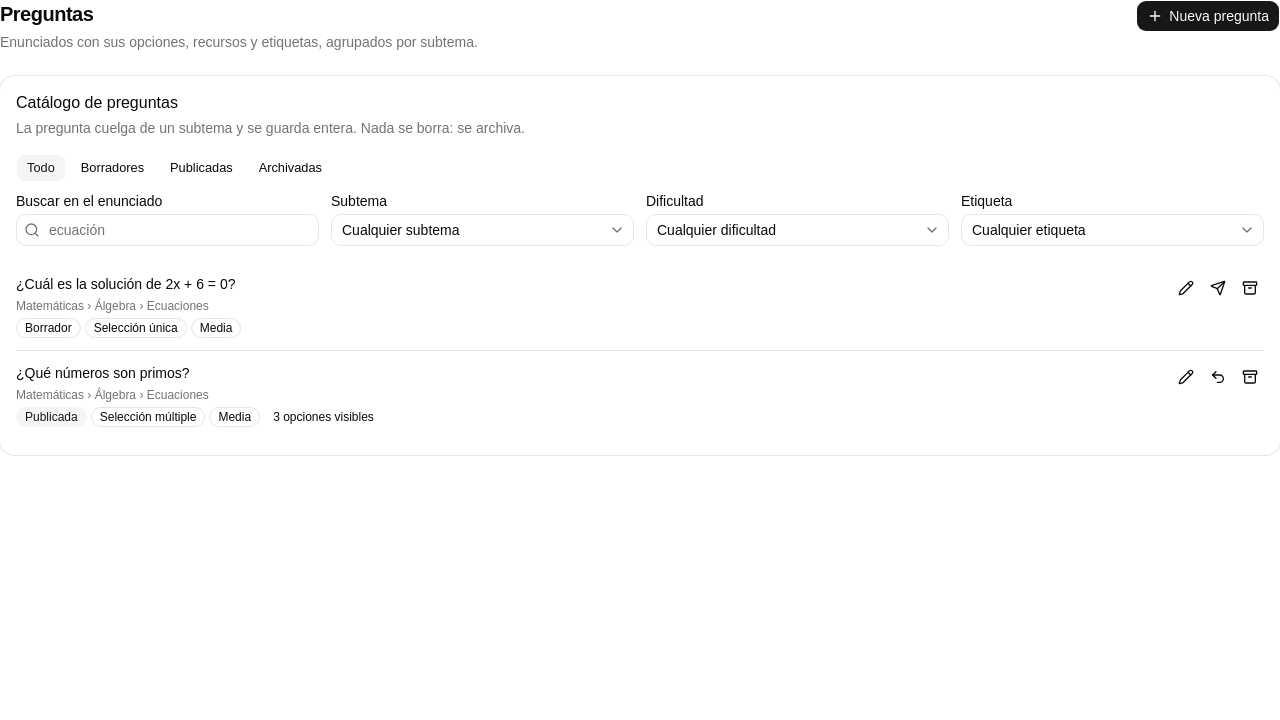
it: gestión de preguntas › avisa al pasar de múltiple a única con más de una correcta, sin desmarcar nada
This screenshot has width=1280, height=720.
Click the button named "Editar «¿Qué números" at (1186, 377), box left=1172, top=363, right=1200, bottom=391
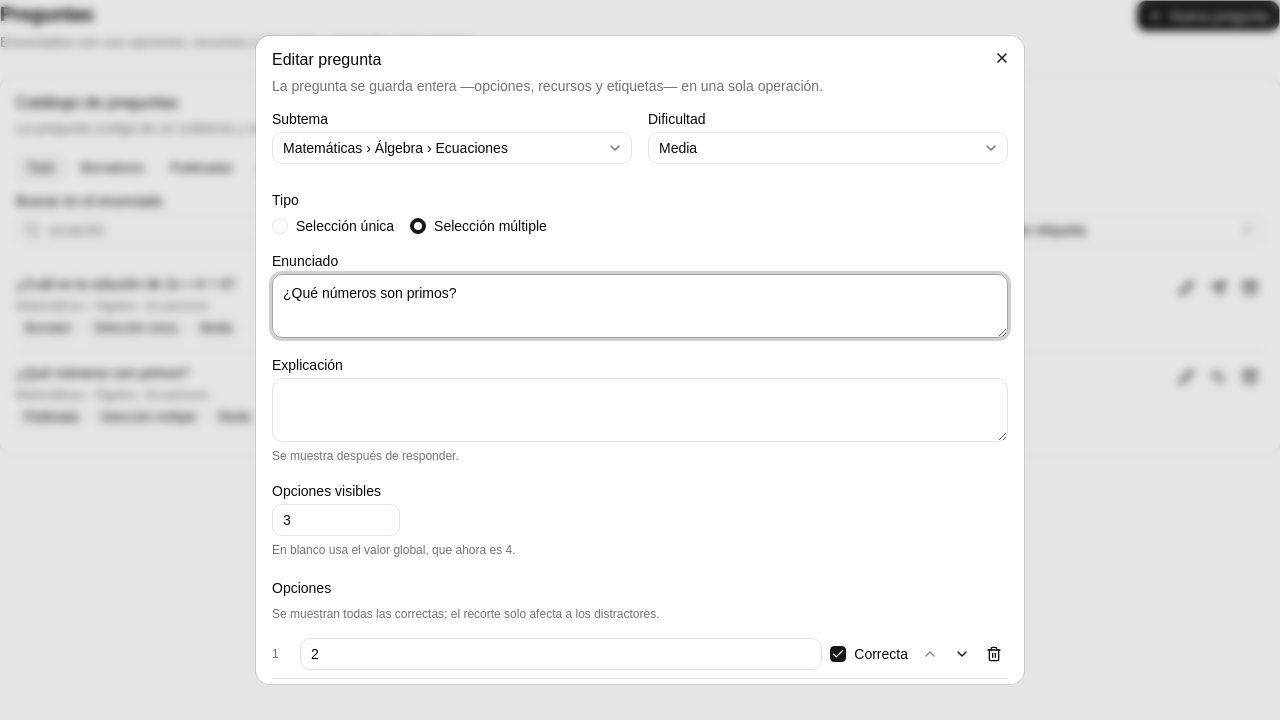
Now the dialog is shown, box left=256, top=36, right=1024, bottom=684
Now the text box labelled "Enunciado" is shown, box left=272, top=274, right=1008, bottom=338
Now the checkbox named "La opción 1 es correcta" is checked, box left=830, top=646, right=846, bottom=662
Click the 1st radio button named "Selección única" at (280, 226), box left=272, top=218, right=288, bottom=234
(page scrolled)
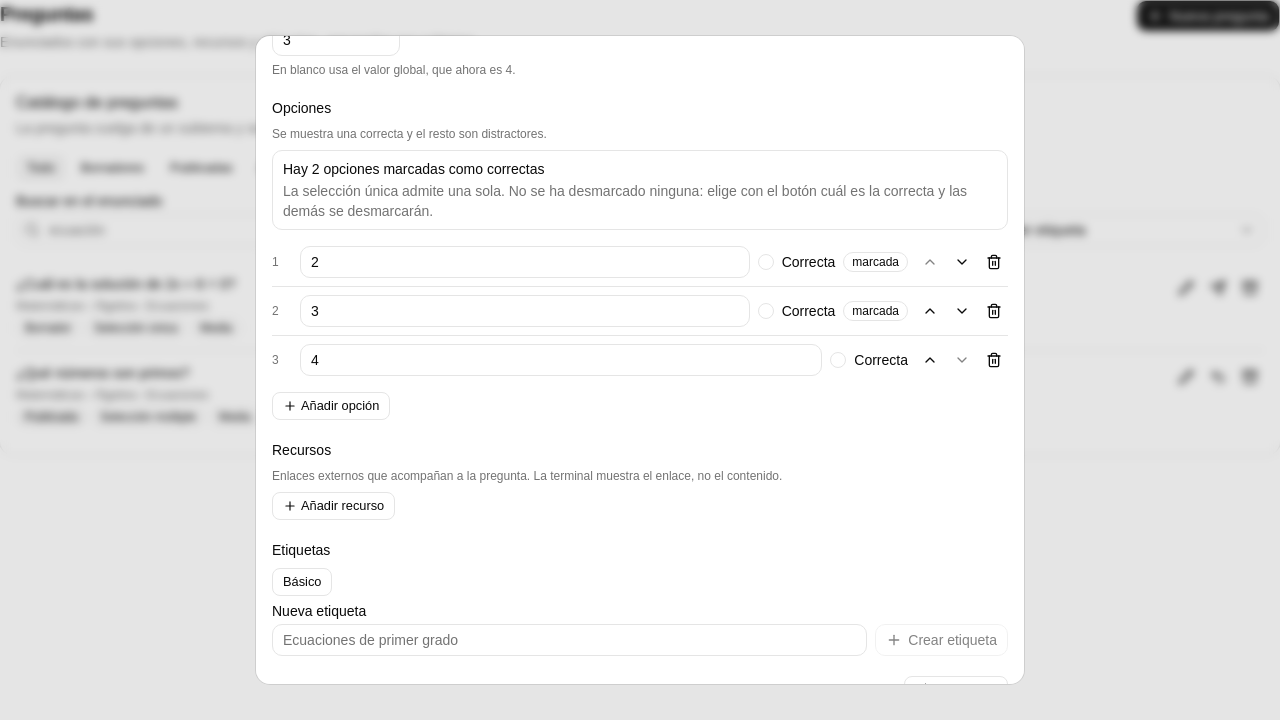
Now the text "Hay 2 opciones marcadas como correctas" is shown, box left=283, top=161, right=544, bottom=177
Now the text "marcada" is shown 2 times, box left=843, top=252, right=908, bottom=272; left=843, top=301, right=908, bottom=321
Click the radio button named "La opción 3 es la correcta" at (838, 360), box left=830, top=352, right=846, bottom=368
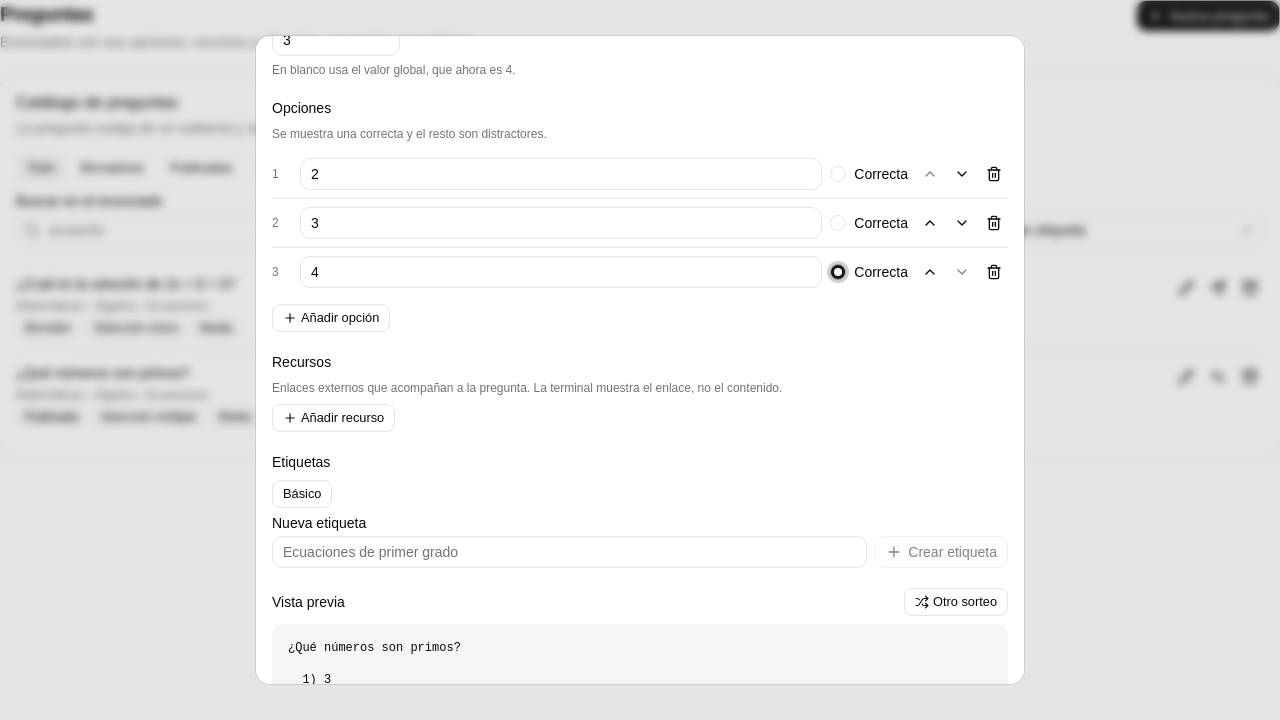
Now the text "Hay 2 opciones marcadas como correctas" is gone
